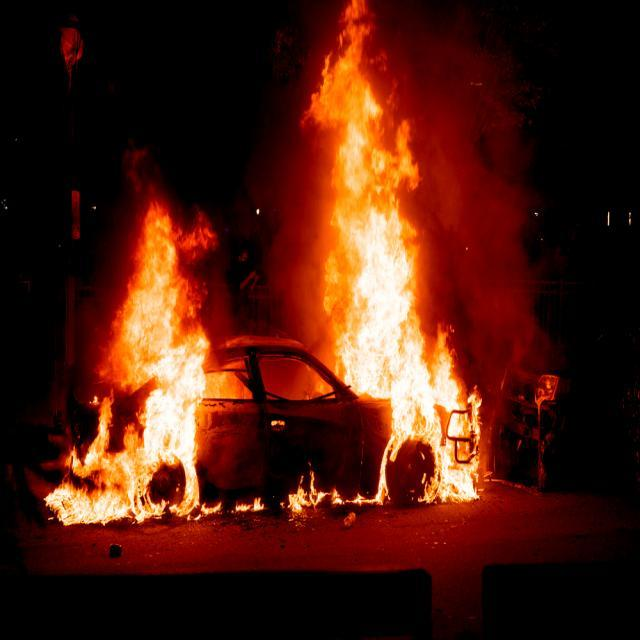Fire: (325, 5, 482, 510), (46, 200, 216, 532), (282, 472, 324, 513)
